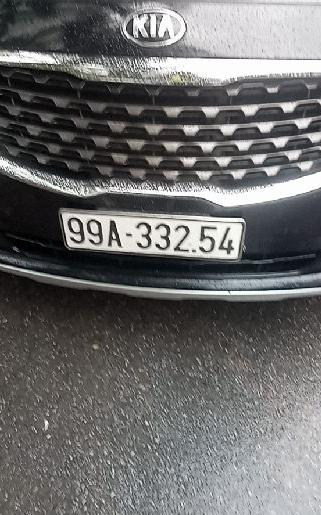Plate-iWeP: (60, 206, 244, 263)
